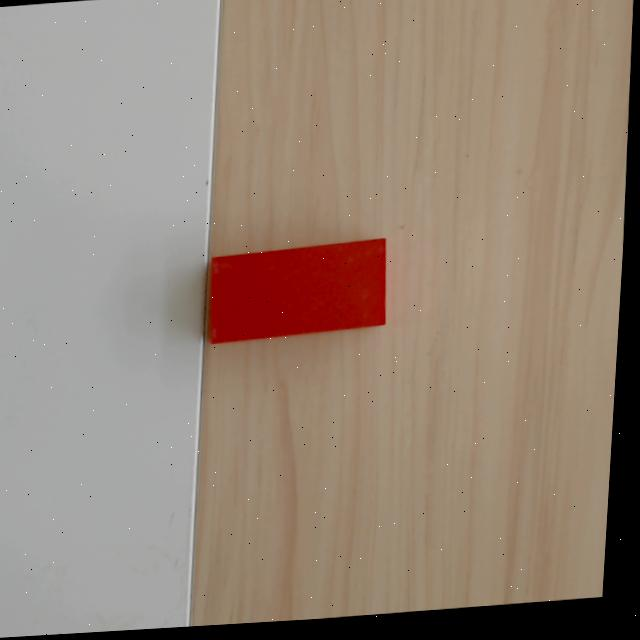Balok-Merah-1005025: (200, 236, 396, 344)
